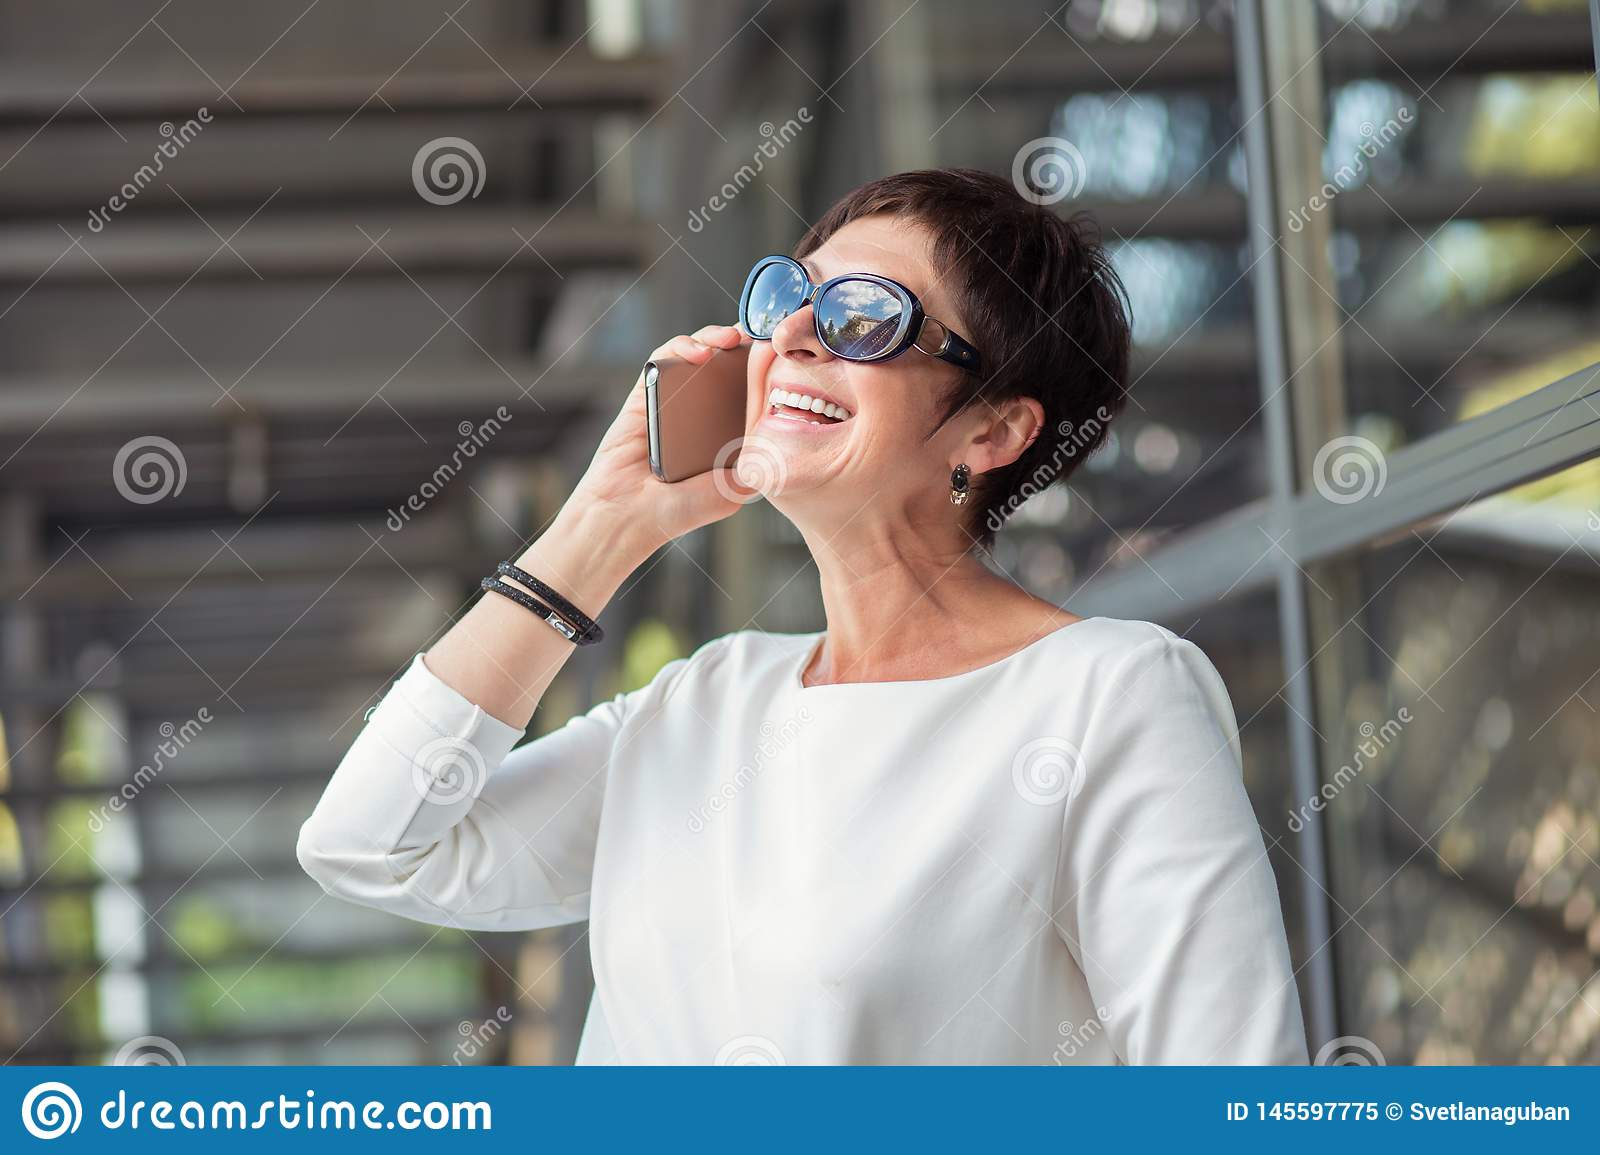phone: (637, 344, 754, 487)
talk: (568, 238, 957, 571)
